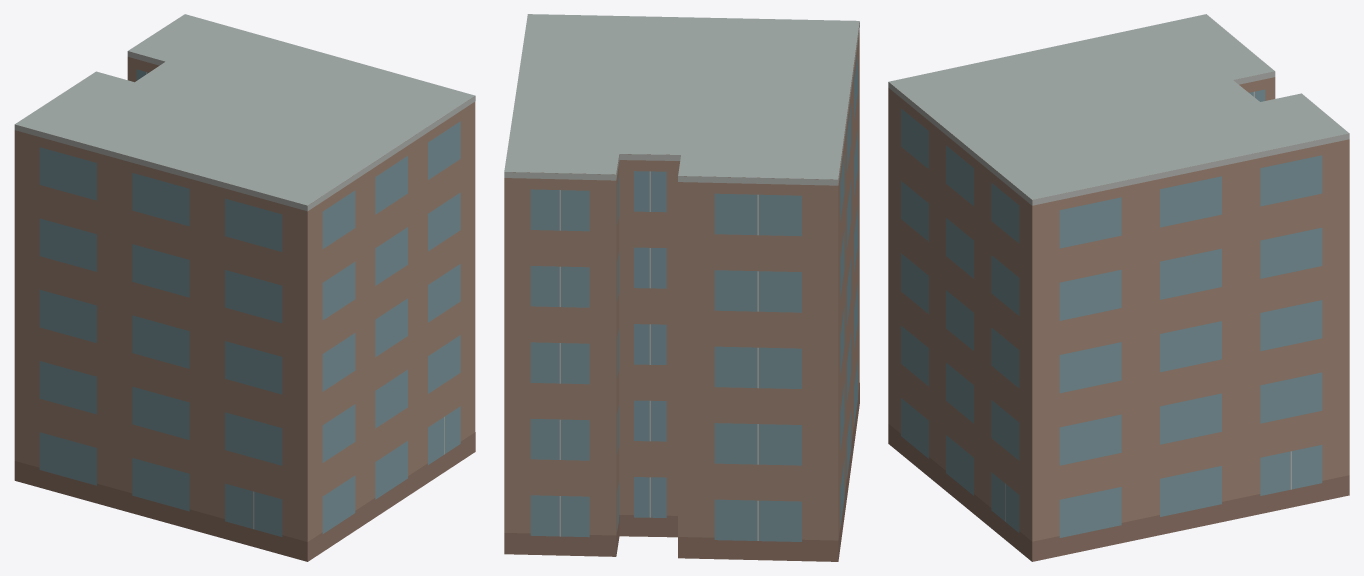
Rendered from survey-upis-32834802.glb.
3 renders of one model, left to right at view 1: azimuth 30°, elevation 25°; view 2: azimuth 150°, elevation 25°; view 3: azimuth 270°, elevation 25°, orthographic. The views are drawn at different scales.
Visible parts, largest first — view 1: survey-upis-32834802.tmp; view 2: survey-upis-32834802.tmp; view 3: survey-upis-32834802.tmp.
Part boxes in pixels (left/top/right/bottom): survey-upis-32834802.tmp: left=14, top=14, right=475, bottom=561; survey-upis-32834802.tmp: left=504, top=14, right=859, bottom=561; survey-upis-32834802.tmp: left=888, top=14, right=1349, bottom=561.
Size of the model in its own units: 16.81 by 15.25 by 17.62.
